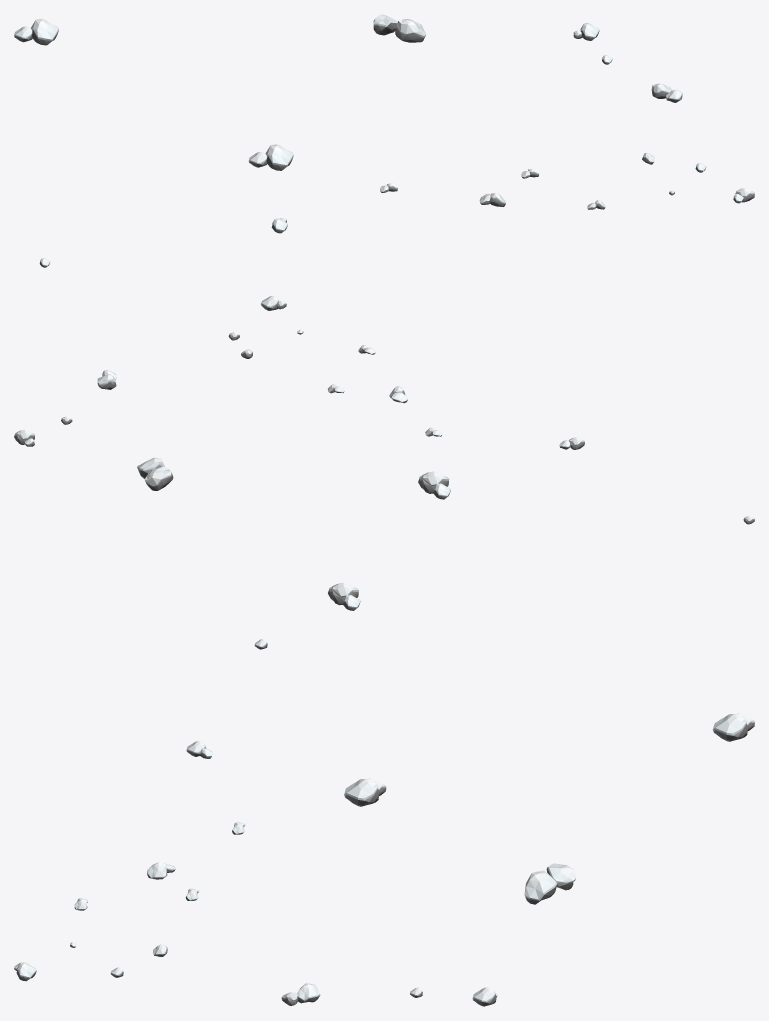
3 views of the same model, one above another, from view 1: azimuth 30°, elevation 25°; view 2: azimuth 150°, elevation 25°; view 3: azimuth 270°, elevation 25° (orthographic). The views are drawn at different scales.
Parts seen in each view (by area): view 1: SnowyRock1 (18), SnowyRock1 (14).001, SnowyRock1 (17); view 2: no part large enough to name; view 3: SnowyRock1 (18), SnowyRock1 (17), SnowyRock1 (14).001.
Boxes of the visible parts, x1=… form: SnowyRock1 (18): x1=395, y1=19, x2=426, y2=42; SnowyRock1 (14).001: x1=265, y1=144, x2=293, y2=170; SnowyRock1 (17): x1=30, y1=18, x2=58, y2=45; SnowyRock1 (18): x1=524, y1=870, x2=557, y2=904; SnowyRock1 (17): x1=712, y1=713, x2=748, y2=741; SnowyRock1 (14).001: x1=344, y1=778, x2=379, y2=806.
Size of the model in its own units: 200 by 13.87 by 173.
Materials: 1 (1 with a texture image).
